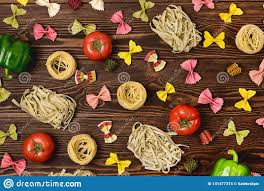Tomato: (22, 129, 59, 160), (81, 30, 115, 59), (174, 103, 201, 131)
